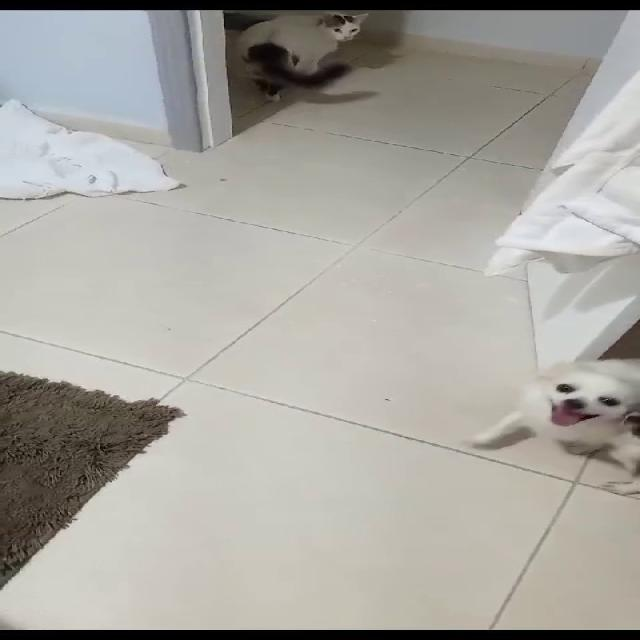Simba: (235, 11, 380, 110)
Theo: (490, 352, 639, 497)
